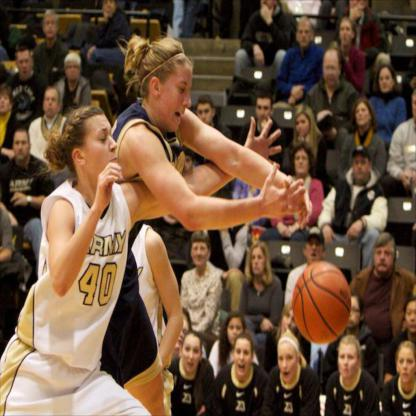Ball: (294, 260, 350, 342)
